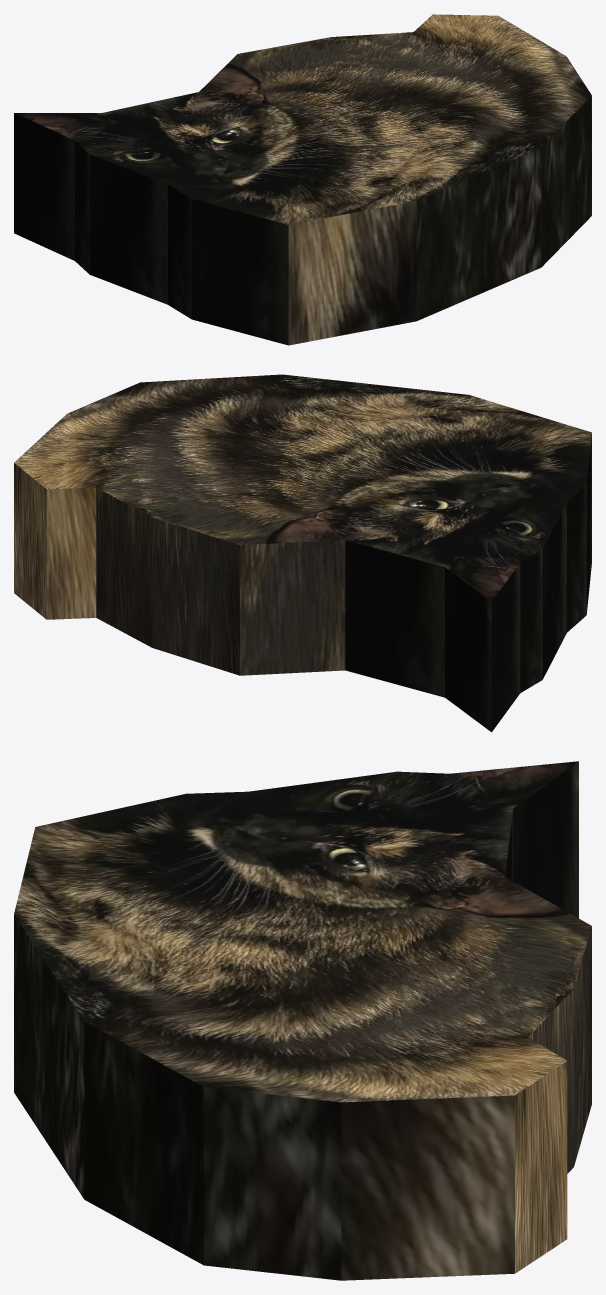
The model's file is cat.glb.
The picture shows the model from 3 angles, top to bottom: view 1: azimuth 30°, elevation 25°; view 2: azimuth 150°, elevation 25°; view 3: azimuth 270°, elevation 25°; orthographic projection. The views are drawn at different scales.
Parts seen in each view (by area): view 1: Cat; view 2: Cat; view 3: Cat.
Part boxes in pixels (x1,y1,x2,y2): Cat: (14, 14, 591, 345); Cat: (14, 374, 591, 732); Cat: (14, 761, 591, 1280).
Size of the model in its own units: 2.89 by 0.7039 by 2.07.
Materials: 1 (1 with a texture image).
